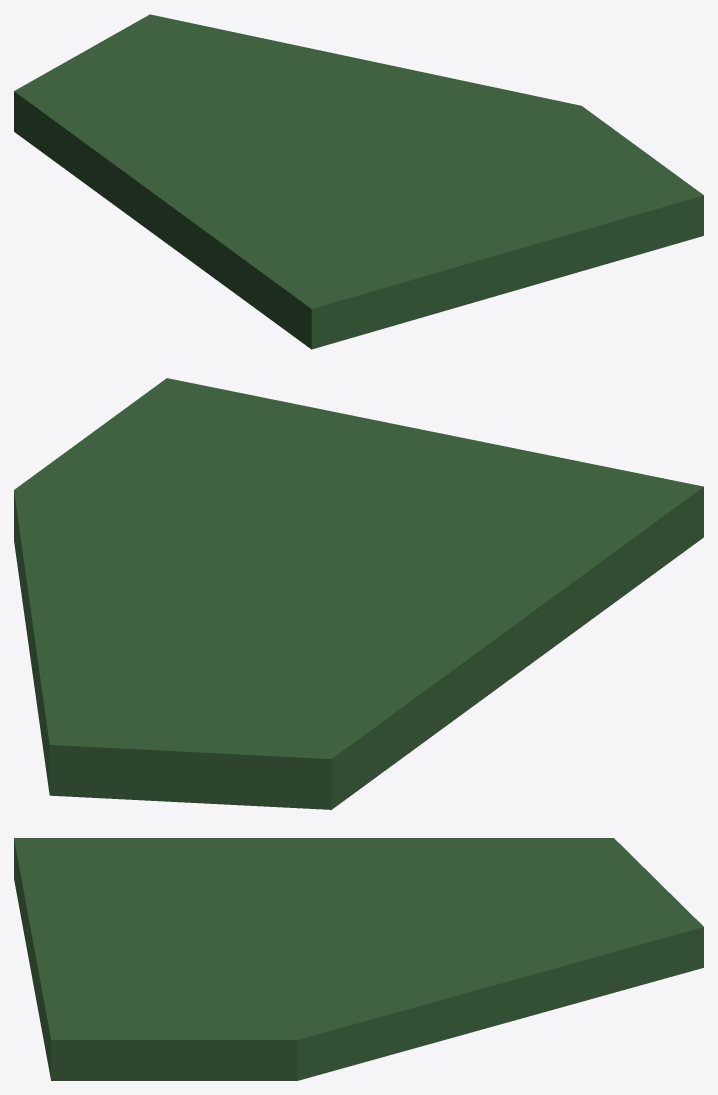
Rendered from x_proval_00_153_1_rmstrd.fbx.
The picture shows the model from 3 angles, top to bottom: view 1: azimuth 30°, elevation 25°; view 2: azimuth 150°, elevation 25°; view 3: azimuth 270°, elevation 25°; orthographic projection. The views are drawn at different scales.
Visible parts, largest first — view 1: x_proval_00_153_1_rmstrd1; view 2: x_proval_00_153_1_rmstrd1; view 3: x_proval_00_153_1_rmstrd1.
Part boxes in pixels (bbox=[...]): x_proval_00_153_1_rmstrd1: bbox=[14, 14, 703, 349]; x_proval_00_153_1_rmstrd1: bbox=[14, 378, 703, 809]; x_proval_00_153_1_rmstrd1: bbox=[14, 838, 703, 1080].
Size of the model in its own units: 2.12 by 0.2 by 3.06.
